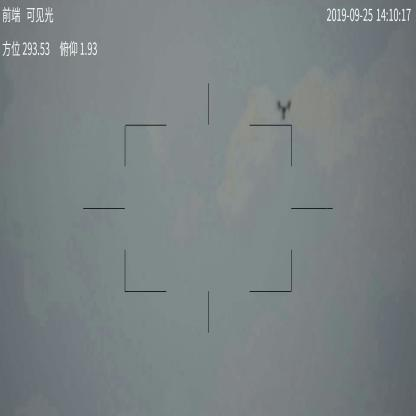uav: (277, 95, 294, 118)
